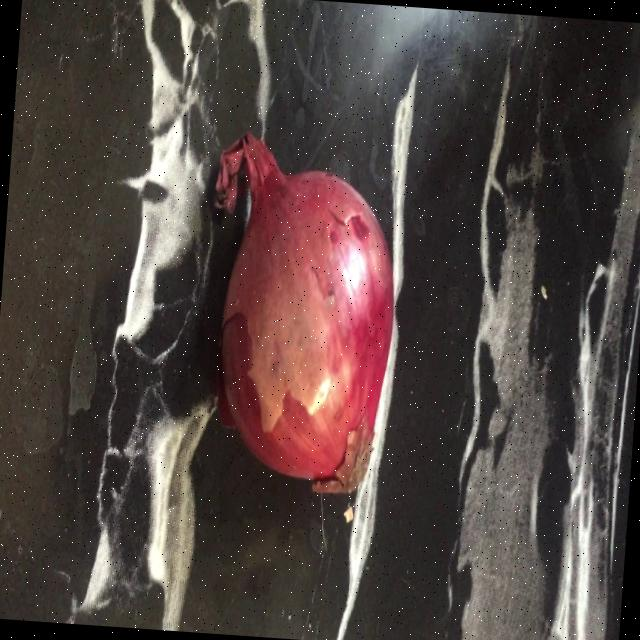Onion: (216, 131, 393, 492)
